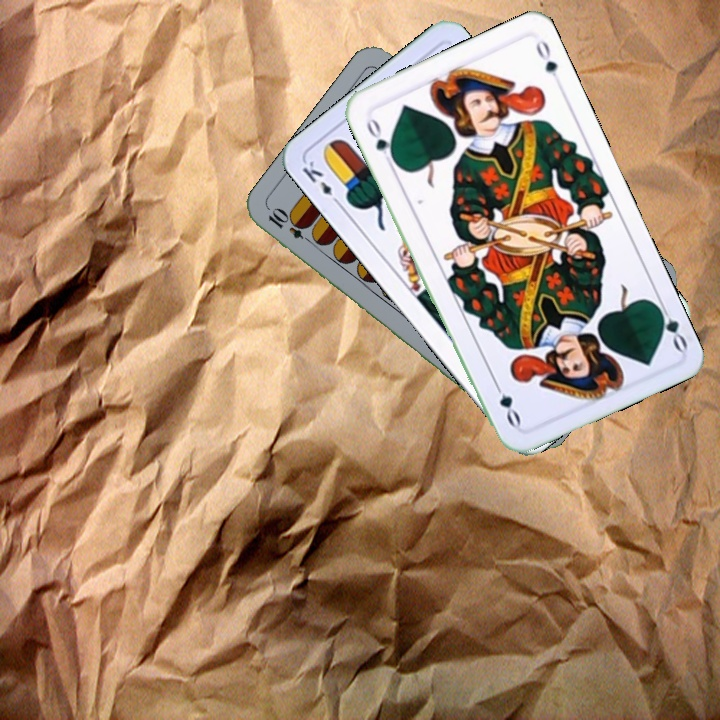E10: (264, 205, 318, 248)
EK: (297, 156, 344, 209)
GO: (650, 297, 691, 354), (362, 114, 398, 168)
